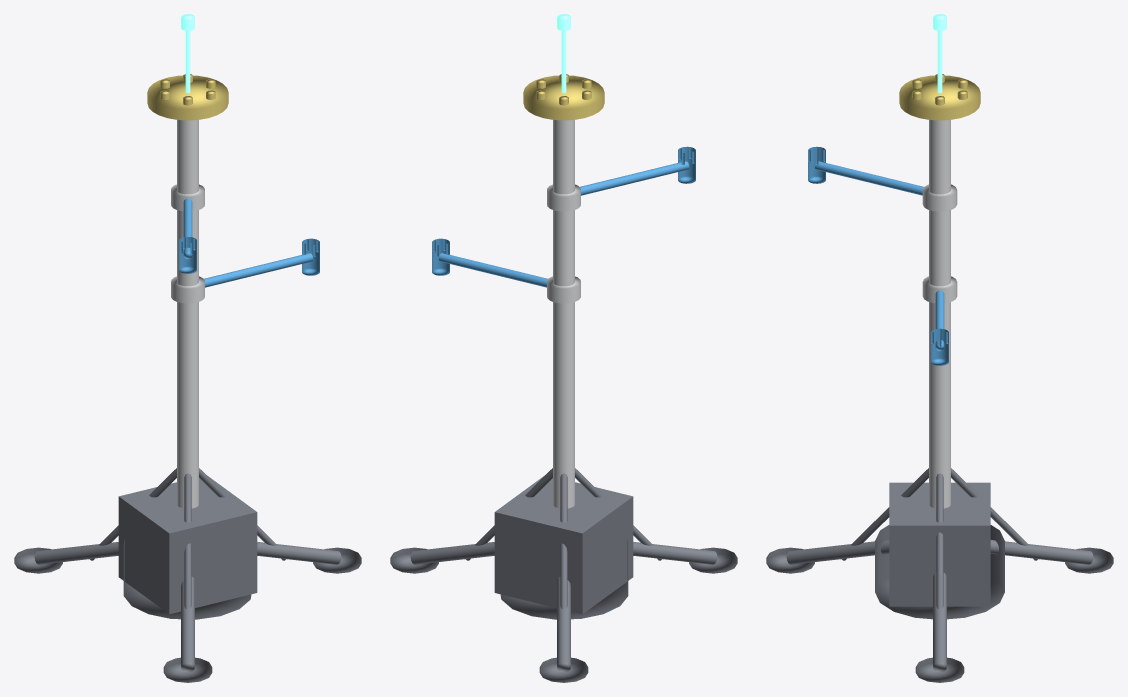
The model's file is weather_station.glb.
3 views of the same model, side by side, from view 1: azimuth 30°, elevation 25°; view 2: azimuth 150°, elevation 25°; view 3: azimuth 270°, elevation 25° (orthographic).
Parts seen in each view (by area): view 1: EquipmentRoot; view 2: EquipmentRoot; view 3: EquipmentRoot.
Part boxes in pixels (x1,y1,x2,y2): EquipmentRoot: (14,14,361,682); EquipmentRoot: (390,14,737,682); EquipmentRoot: (766,14,1113,682).
Size of the model in its own units: 1.52 by 3.17 by 1.71.
